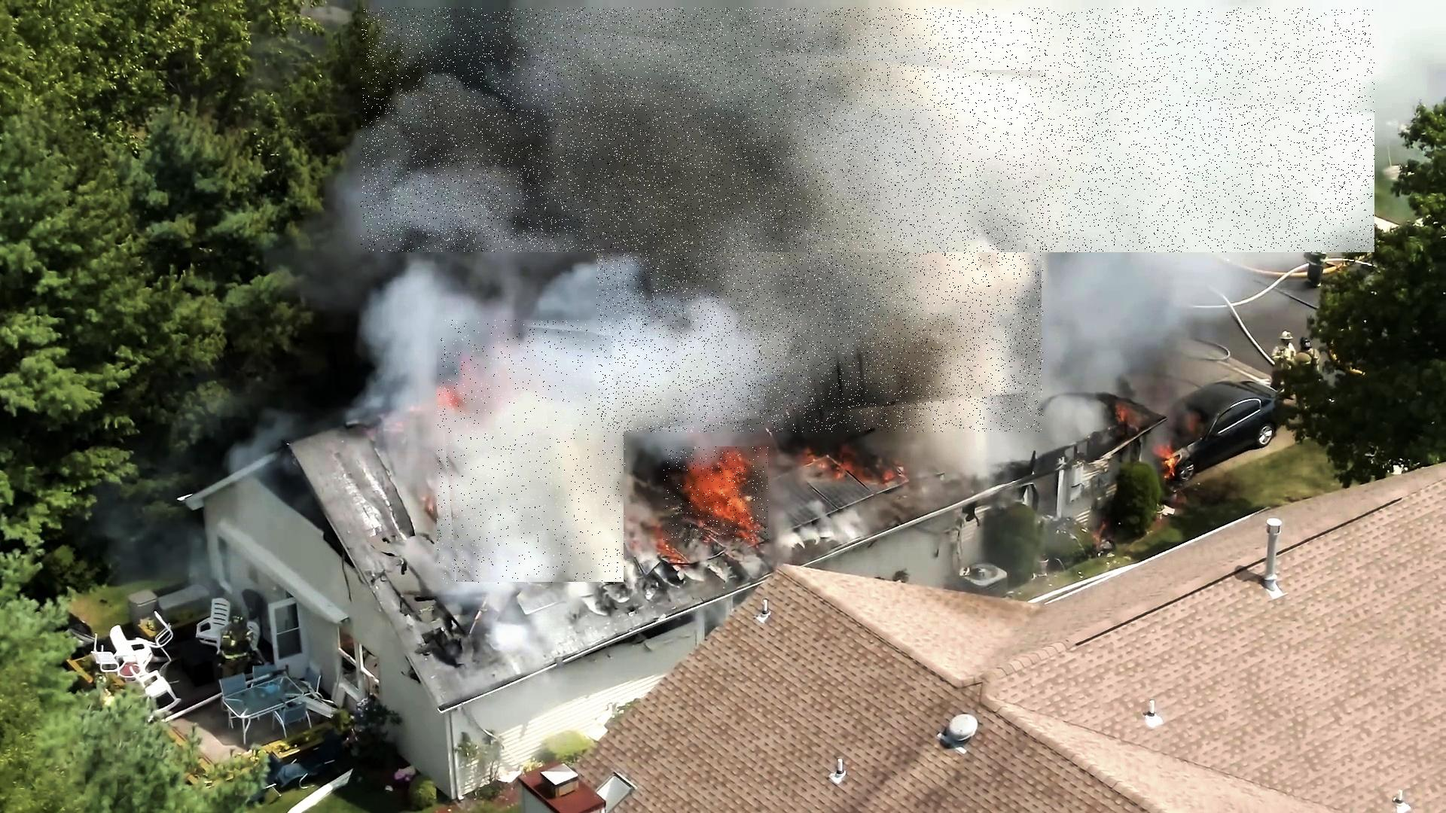fire: (664, 447, 768, 541)
smoke: (361, 8, 1375, 252), (597, 70, 1044, 432), (437, 321, 626, 584)
